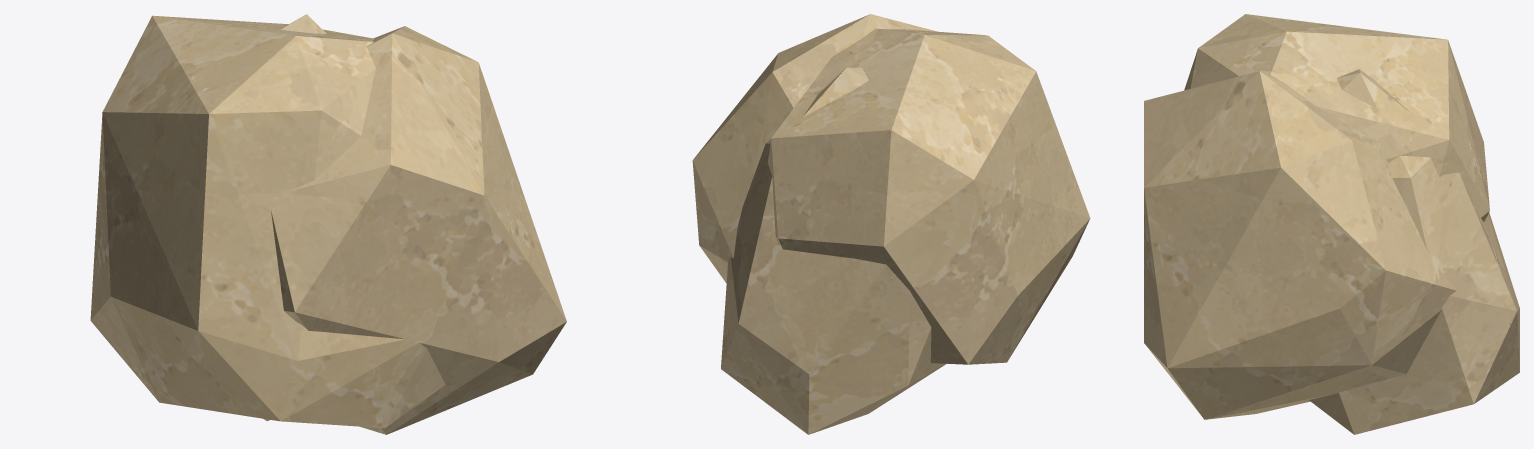
The model's file is ground_bottom_square_interior_04.glb.
3 views of the same model, side by side, from view 1: azimuth 30°, elevation 25°; view 2: azimuth 150°, elevation 25°; view 3: azimuth 270°, elevation 25° (orthographic). The views are drawn at different scales.
Parts seen in each view (by area): view 1: GroundBottomSquareInterior04_Body; view 2: GroundBottomSquareInterior04_Body; view 3: GroundBottomSquareInterior04_Body.
Part boxes in pixels (box(x1,y1,x2,y2)): GroundBottomSquareInterior04_Body: box(90, 14, 566, 434); GroundBottomSquareInterior04_Body: box(692, 14, 1090, 434); GroundBottomSquareInterior04_Body: box(1144, 14, 1519, 434).
Bounding box in the file's own units: 1 × 1.09 × 1.
Materials: 1 (1 with a texture image).
